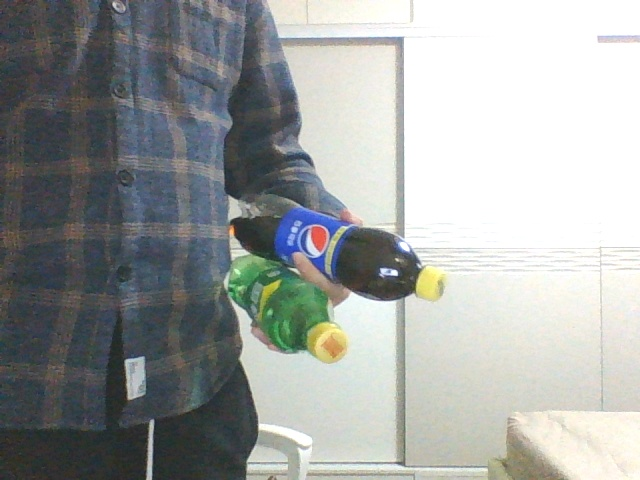Cola: (230, 194, 449, 301)
Sprite: (228, 257, 348, 365)
